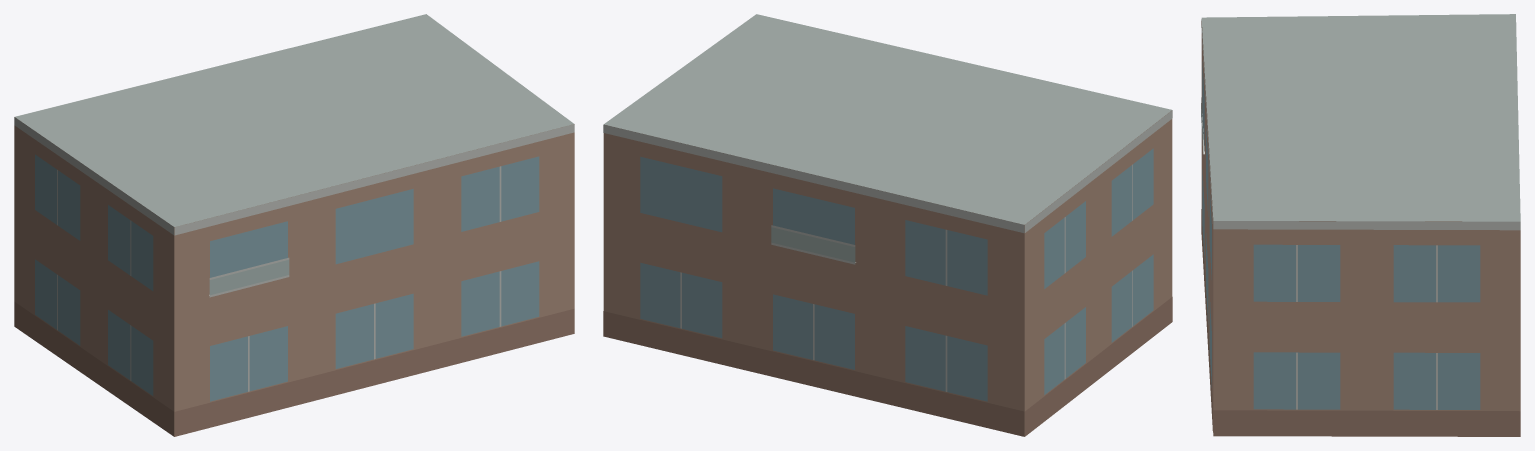
Rendered from survey-upis-32895031.glb.
3 renders of one model, left to right at view 1: azimuth 30°, elevation 25°; view 2: azimuth 150°, elevation 25°; view 3: azimuth 270°, elevation 25°, orthographic. The views are drawn at different scales.
Visible parts, largest first — view 1: survey-upis-32895031.tmp; view 2: survey-upis-32895031.tmp; view 3: survey-upis-32895031.tmp.
Part boxes in pixels (<box>): survey-upis-32895031.tmp: <box>14,14,574,436</box>; survey-upis-32895031.tmp: <box>603,14,1172,436</box>; survey-upis-32895031.tmp: <box>1201,14,1520,436</box>.
Bounding box in the file's own units: 12.63 × 6.1 × 8.22.
